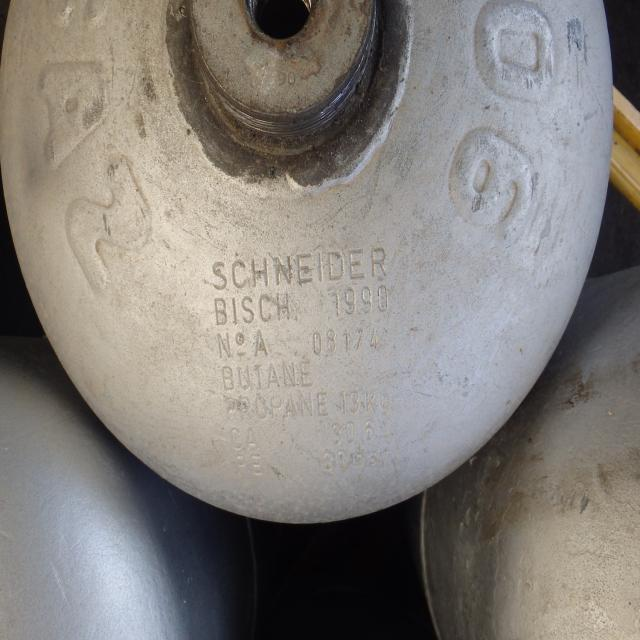ocr: (198, 249, 410, 477)
